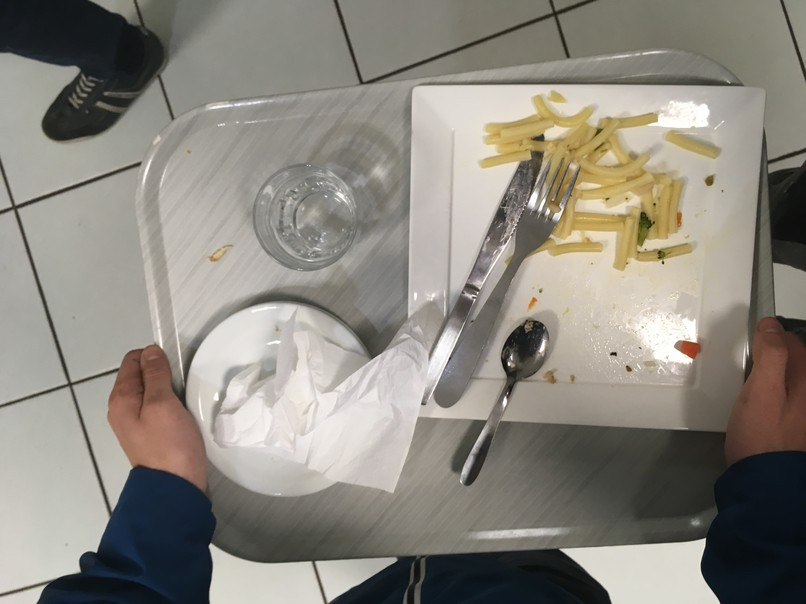cup: (223, 158, 376, 266)
cutlery: (451, 138, 577, 439), (487, 315, 556, 485)
orga: (577, 116, 714, 273), (480, 97, 575, 161)
trash: (237, 300, 416, 483)
